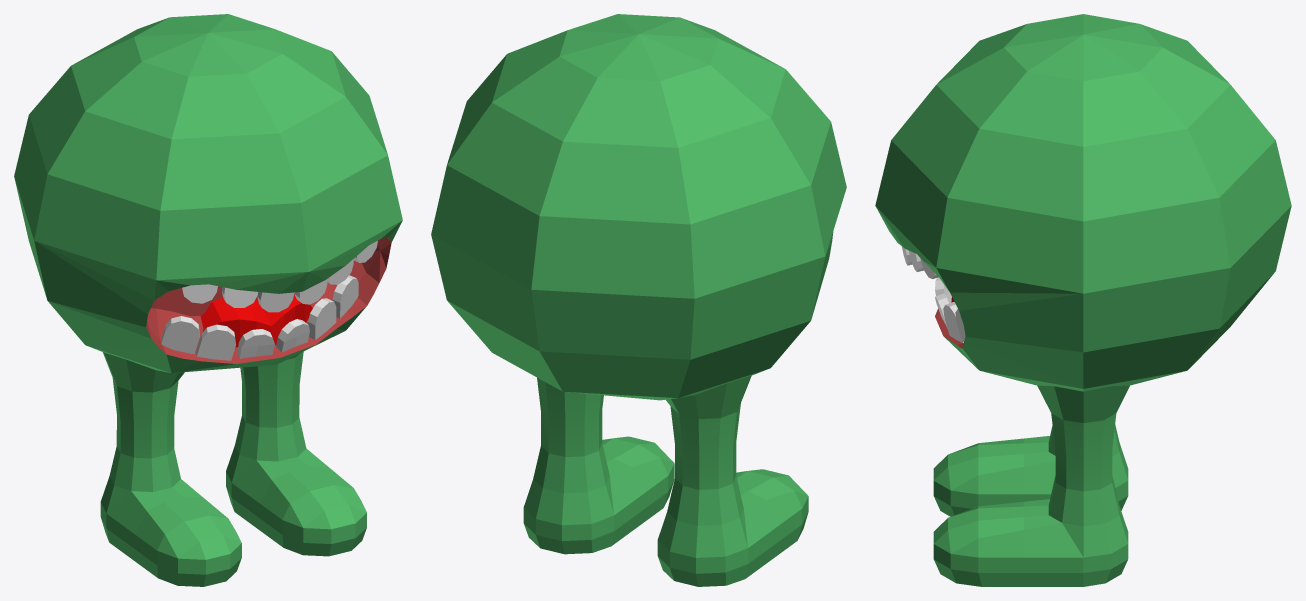
Rendered from Fig.fbx.
The picture shows the model from 3 angles, left to right: view 1: azimuth 30°, elevation 25°; view 2: azimuth 150°, elevation 25°; view 3: azimuth 270°, elevation 25°; orthographic projection. The views are drawn at different scales.
Parts seen in each view (by area): view 1: Fig; view 2: Fig; view 3: Fig.
Part boxes in pixels (left/top/right/bottom): Fig: left=14, top=14, right=402, bottom=586; Fig: left=431, top=14, right=846, bottom=586; Fig: left=875, top=14, right=1291, bottom=586.
Bounding box in the file's own units: 7.16 × 9.53 × 7.16.
